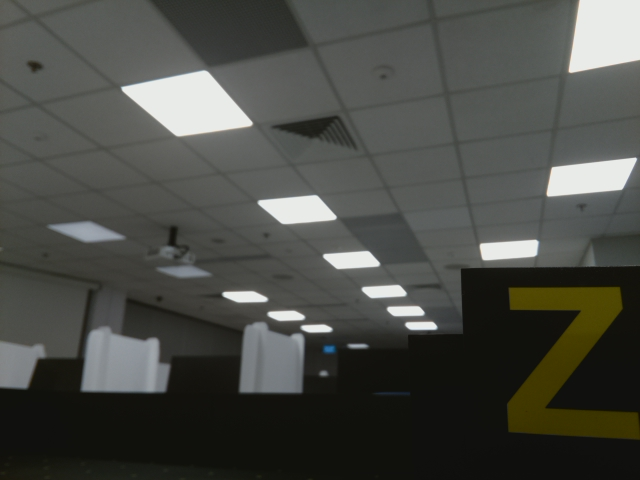z: (502, 284, 639, 447)
